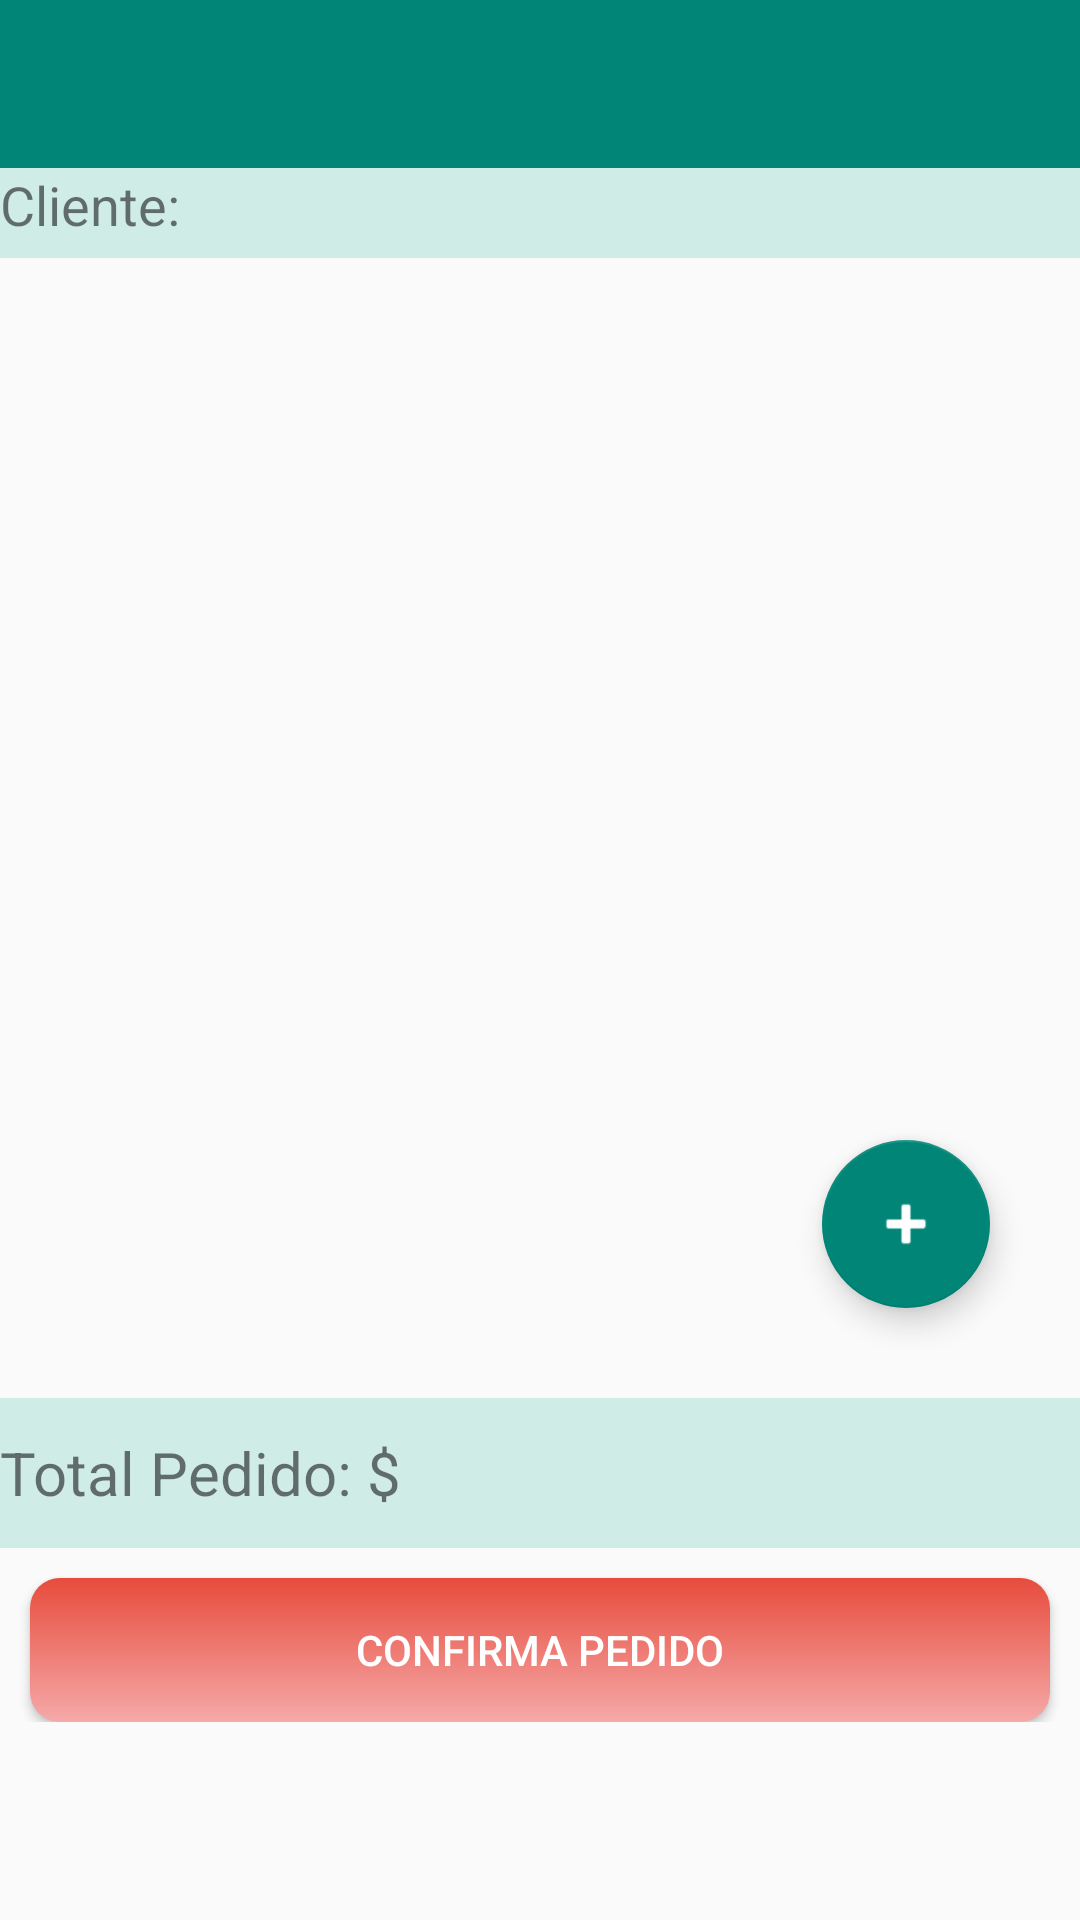

Icons on this 1080×1920 Android screen, each with its box as bbox(x1, y1, x2, y2):
add: bbox(822, 1140, 990, 1308)
